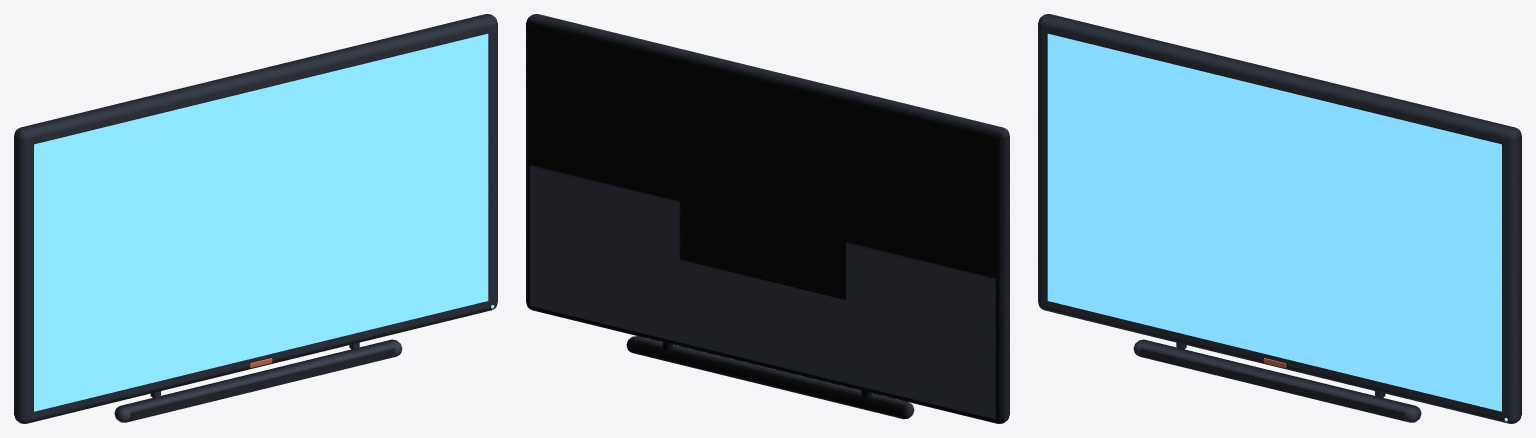
The model's file is wall_screen.glb.
3 views of the same model, side by side, from view 1: azimuth 30°, elevation 25°; view 2: azimuth 150°, elevation 25°; view 3: azimuth 330°, elevation 25° (orthographic).
Parts seen in each view (by area): view 1: wall_screen; view 2: wall_screen; view 3: wall_screen.
Boxes of the visible parts, x1,y1,x2,y2 form: wall_screen: (14, 14, 497, 423); wall_screen: (526, 14, 1009, 423); wall_screen: (1038, 14, 1521, 423).
Bounding box in the file's own units: 3.38 × 2.12 × 0.151.
Materials: 6 (4 with a texture image).
